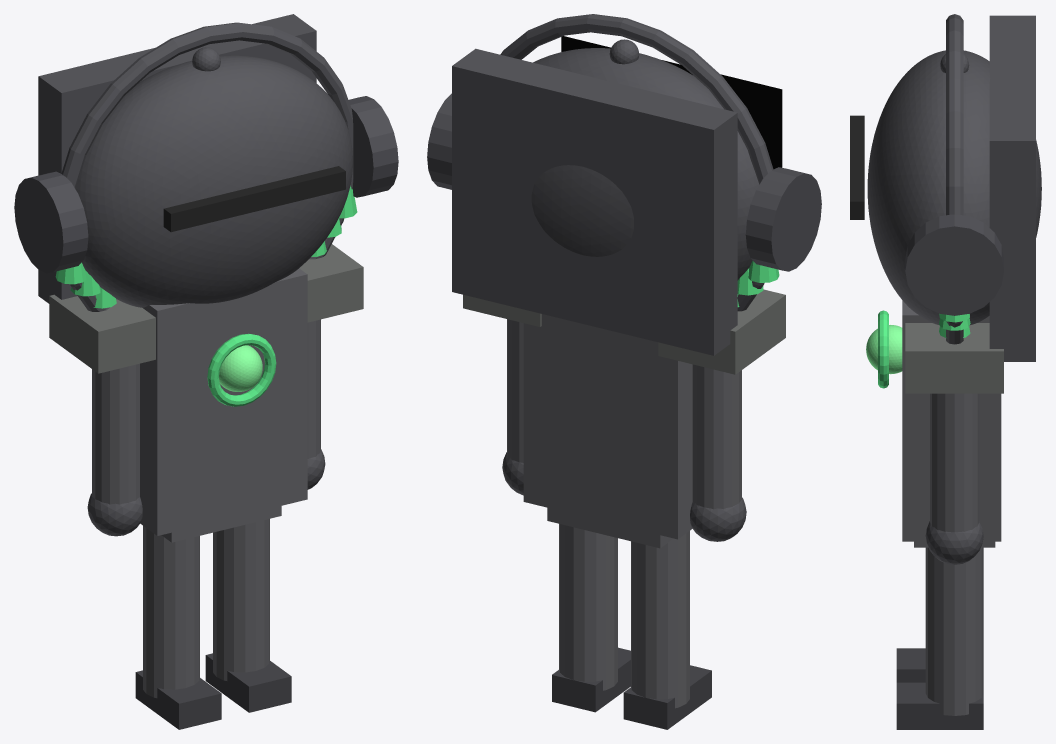
Rendered from monitormanarmored.glb.
The picture shows the model from 3 angles, left to right: view 1: azimuth 30°, elevation 25°; view 2: azimuth 150°, elevation 25°; view 3: azimuth 270°, elevation 25°; orthographic projection. The views are drawn at different scales.
Parts seen in each view (by area): view 1: crt_shell_22, coat_2, crt_back_23, leg_15, leg_17, headband_28, arm_3, shoulder_pad_5, earcup_26, brow_25, earcup_27, shoulder_pad_11 (+7 smaller); view 2: crt_back_23, coat_2, crt_shell_22, leg_15, leg_17, arm_3, headband_28, earcup_26, shoulder_pad_5, screen_24, boot_16, arm_9 (+6 smaller); view 3: crt_shell_22, crt_back_23, leg_17, earcup_27, coat_2, arm_9, shoulder_pad_11, headband_28, boot_18, hand_10, brow_25, boot_16 (+2 smaller).
Boxes of the visible parts, box(x1,y1,x2,y2) form: crt_shell_22: box(75, 55, 352, 307); coat_2: box(140, 268, 307, 535); crt_back_23: box(38, 14, 316, 303); leg_15: box(143, 526, 199, 698); leg_17: box(213, 519, 269, 680); headband_28: box(61, 22, 353, 311); arm_3: box(92, 363, 139, 504); shoulder_pad_5: box(49, 294, 155, 373); earcup_26: box(14, 171, 88, 273); brow_25: box(163, 166, 345, 232); earcup_27: box(348, 96, 398, 197); shoulder_pad_11: box(299, 244, 363, 322); crt_back_23: box(452, 48, 737, 355); coat_2: box(523, 314, 692, 539); crt_shell_22: box(531, 48, 759, 280); leg_15: box(631, 531, 689, 708); leg_17: box(559, 524, 617, 690); arm_3: box(692, 364, 741, 509); headband_28: box(500, 14, 773, 311); earcup_26: box(745, 167, 821, 271); shoulder_pad_5: box(658, 289, 785, 374); screen_24: box(561, 36, 782, 169); boot_16: box(623, 665, 711, 729); arm_9: box(507, 319, 523, 462); crt_shell_22: box(867, 50, 1041, 324); crt_back_23: box(989, 15, 1035, 361); leg_17: box(925, 547, 983, 715); earcup_27: box(905, 214, 1003, 315); coat_2: box(902, 300, 1001, 541); arm_9: box(930, 393, 979, 532); shoulder_pad_11: box(905, 323, 1003, 393); headband_28: box(946, 14, 963, 344); boot_18: box(896, 682, 983, 729); hand_10: box(925, 521, 983, 564); brow_25: box(850, 115, 864, 219); boot_16: box(896, 648, 925, 682).
Bounding box in the file's own units: 1.34 × 2.55 × 0.66.
9 materials, 1 textured.
